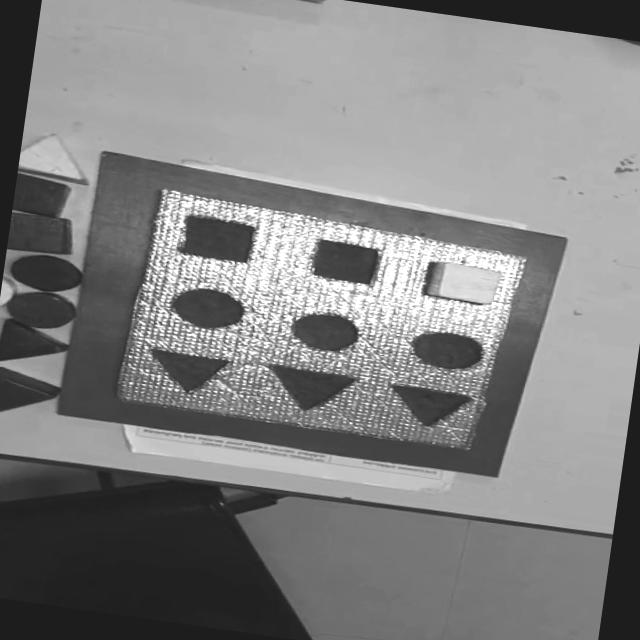bcircle: (5, 250, 86, 298)
bcube: (12, 173, 72, 220)
btriangle: (0, 318, 70, 372)
mtcircle: (168, 284, 248, 334), (410, 328, 486, 375), (288, 309, 362, 356)
mtcube: (177, 214, 259, 266), (309, 238, 382, 288)
mttriangle: (258, 363, 358, 418), (144, 346, 234, 399), (385, 383, 472, 434)
rcircle: (5, 288, 79, 334)
rcube: (6, 210, 78, 260)
rtriangle: (0, 365, 63, 423)
wb: (116, 187, 530, 458)
ycube: (424, 258, 506, 309)
ytriangle: (17, 130, 95, 186)
